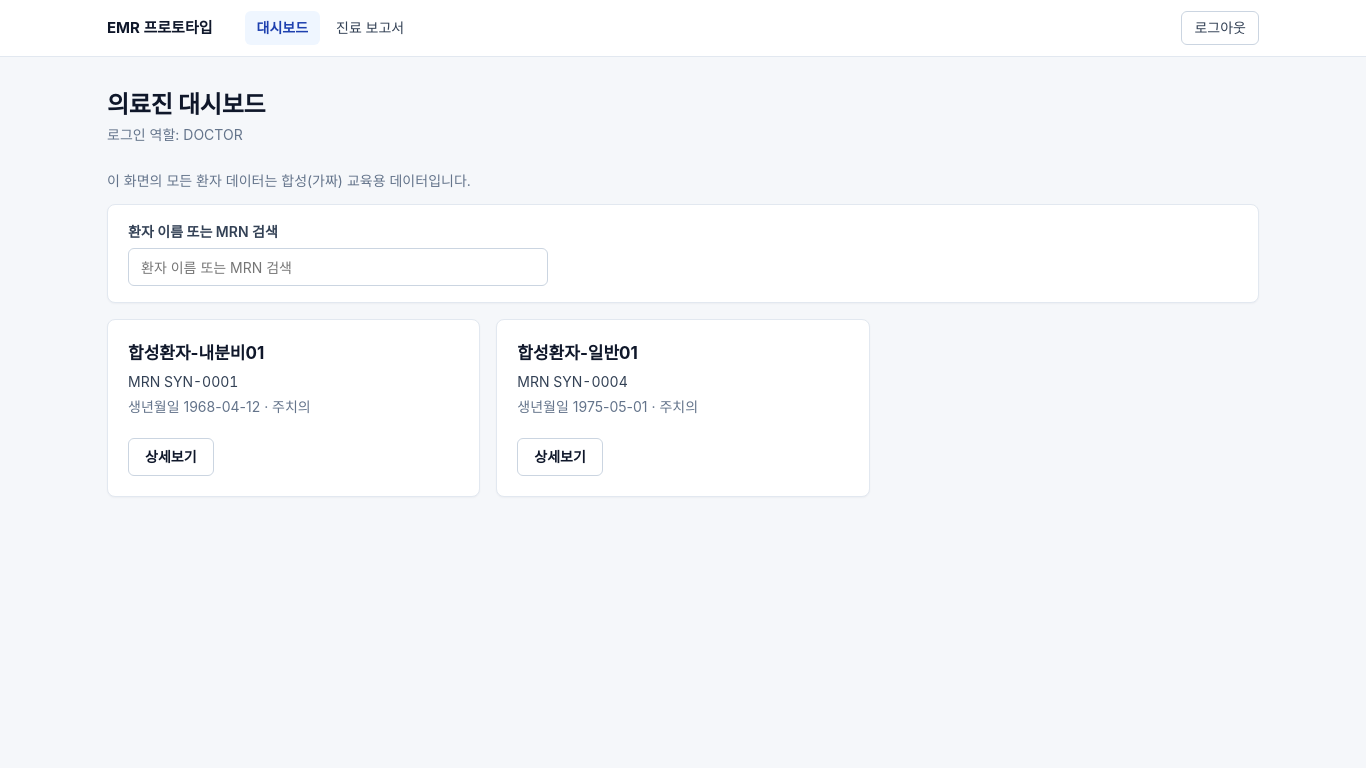
Test case: DoctorDashboard Patient Search (UX-1A) › keeps the existing detail-page navigation link after filtering
This screenshot has width=1366, height=768.
Expected: the text "합성환자-내분비01" is shown, [128, 343, 264, 363]
In the field labelled "환자 이름 또는 MRN 검색": (338, 267) [128, 248, 548, 286], type "0004"
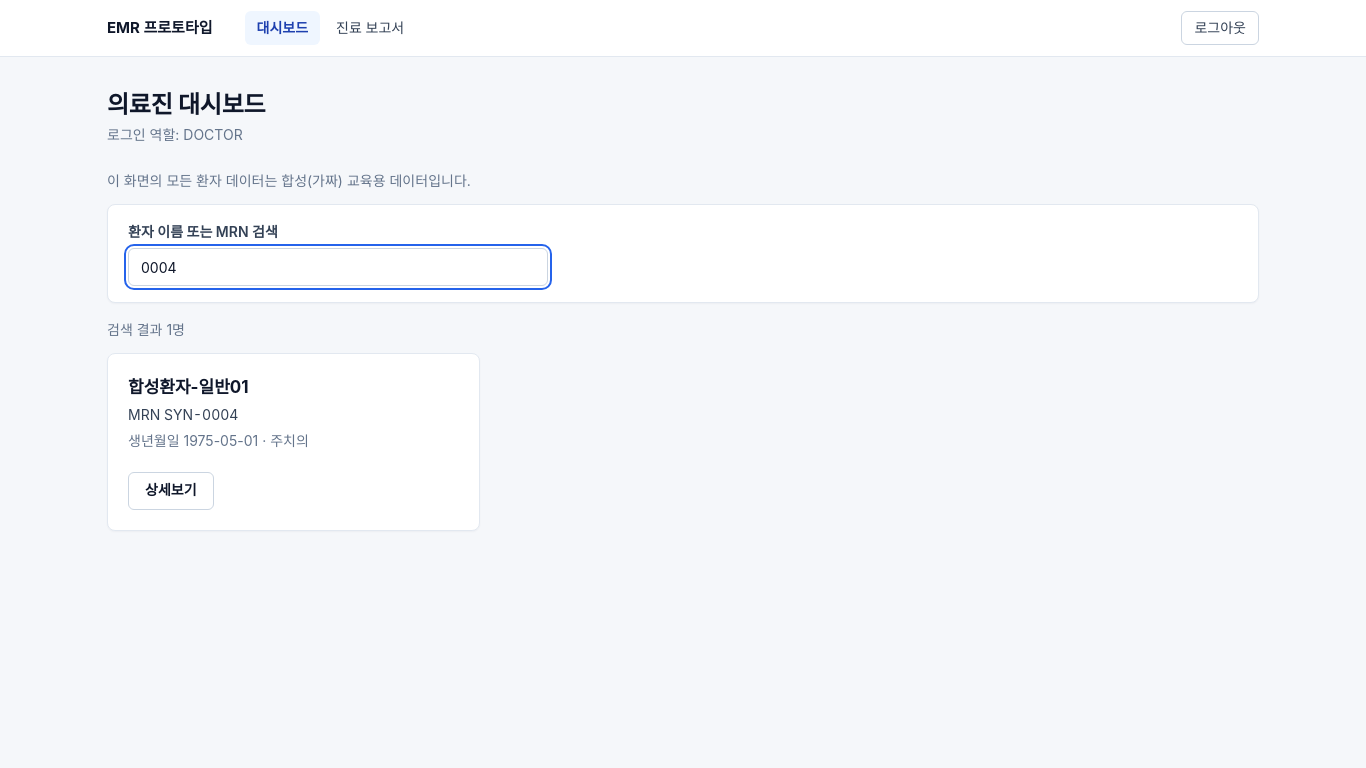
Expected: the number of links "상세보기" is 1, [128, 472, 214, 510]
